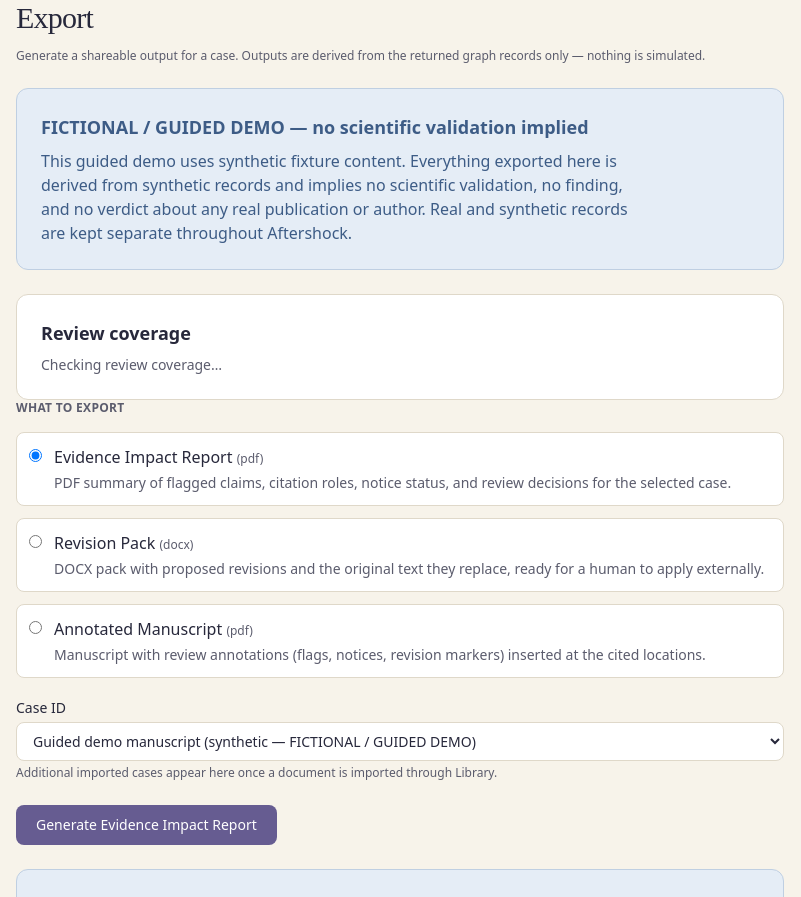
Test: ExportPage › generates an Annotated Manuscript through POST /export-annotated-manuscript
The image size is (801, 897).
What coordinates should you click on to do the following:
click the radio button with test id "export-type-annotated-manuscript"
I would click on:
 (36, 628)
Its box is x1=29 y1=621 x2=42 y2=634.
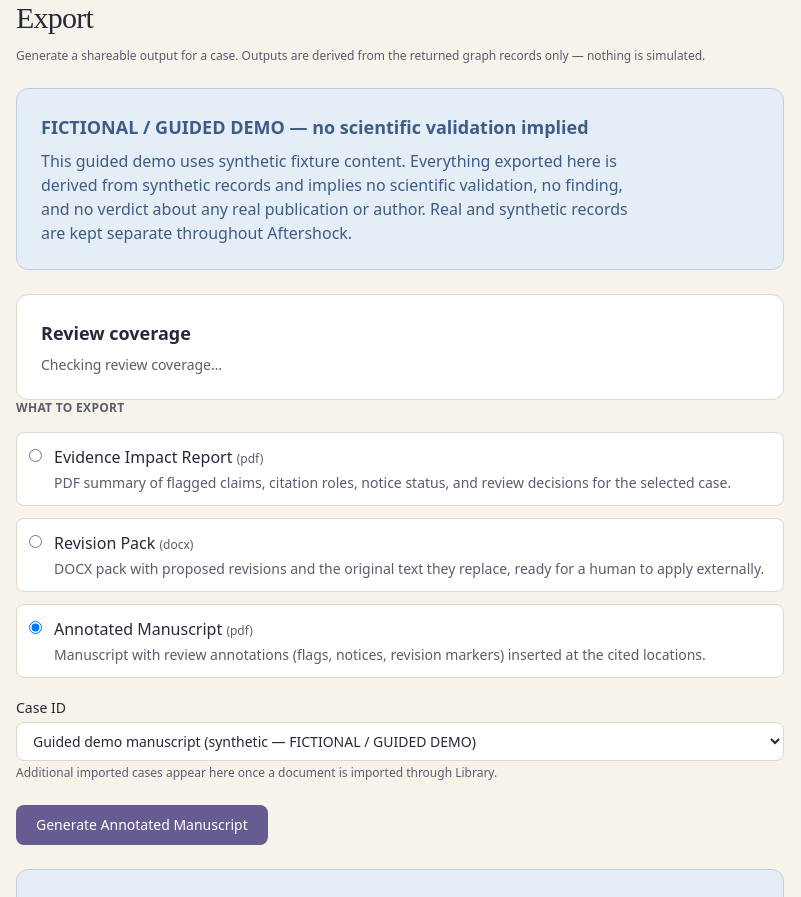
What coordinates should you click on to do the following:
click the button with test id "export-generate"
I would click on:
 (142, 825)
Its box is x1=16 y1=805 x2=268 y2=845.
(page scrolled)
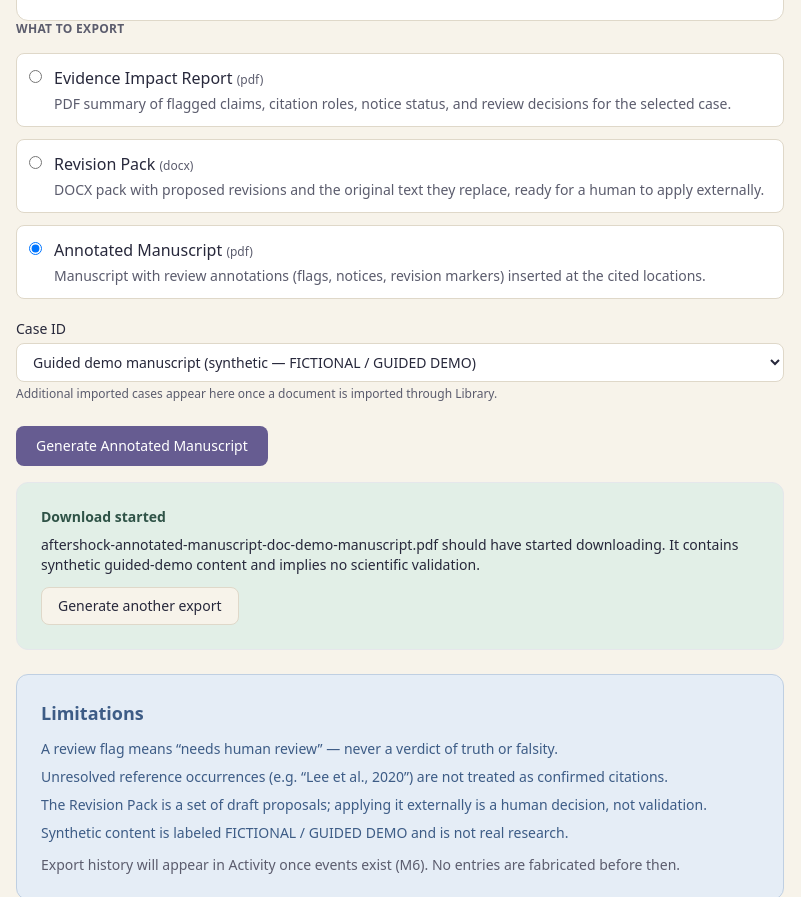
Expected: the element with test id "export-done" is shown, x1=16 y1=482 x2=784 y2=650
